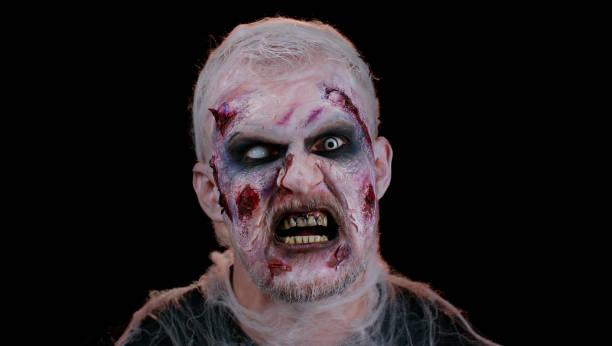Zombie: (193, 32, 393, 299)
